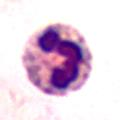monocyte: (19, 21, 96, 97)
